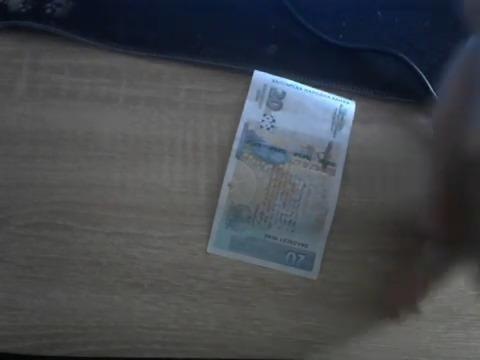20leva: (205, 71, 357, 281)
